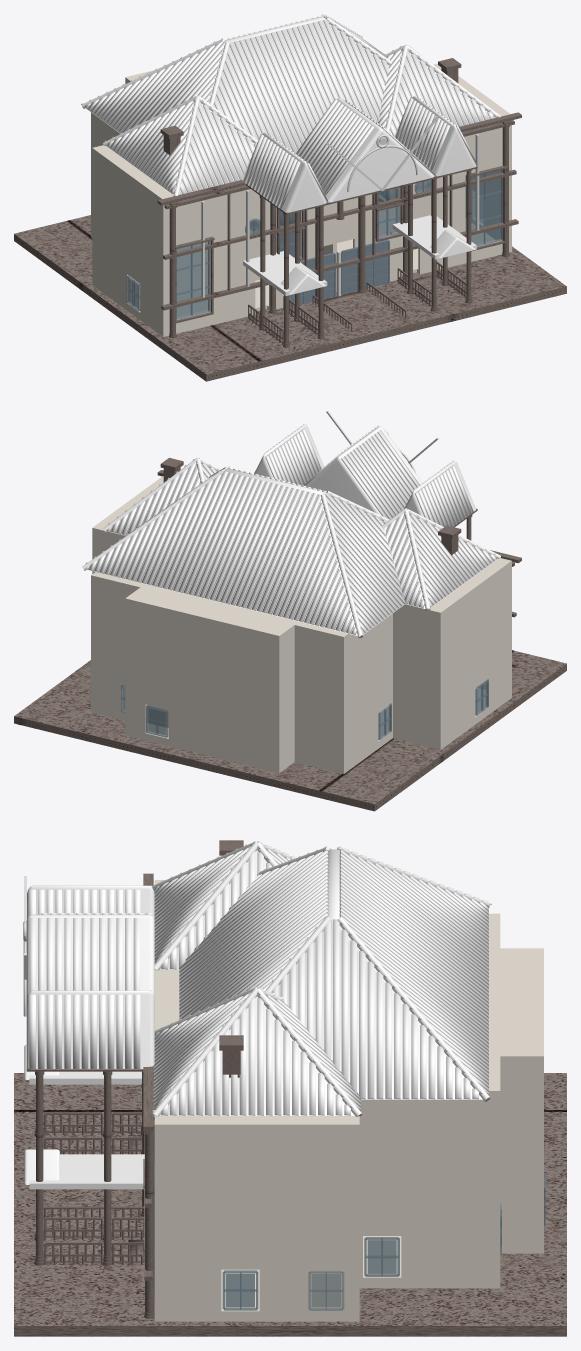
Rendered from architecture_opt-DSaLFvu9.glb.
The picture shows the model from 3 angles, top to bottom: view 1: azimuth 30°, elevation 25°; view 2: azimuth 150°, elevation 25°; view 3: azimuth 270°, elevation 25°; orthographic projection. The views are drawn at different scales.
Parts seen in each view (by area): view 1: L_门廊披檐, L_中央台阶扶手_0_底轨, H3_中央核心, L_门廊顶板, L_拱下窗_上框, L_车库门_上边框, 山墙徽章心; view 2: H3_中央核心, L_门廊披檐, L_中央台阶扶手_0_底轨, L_门廊顶板, L_拱下窗_上框; view 3: L_门廊披檐, H3_中央核心, L_中央台阶扶手_0_底轨, L_门廊顶板, L_拱下窗_上框.
Boxes of the visible parts, box(x1,y1,x2,y2) form: L_门廊披檐: box(81, 14, 500, 294); L_中央台阶扶手_0_底轨: box(14, 58, 566, 381); H3_中央核心: box(91, 63, 511, 336); L_门廊顶板: box(81, 14, 500, 295); L_拱下窗_上框: box(126, 169, 502, 319); L_车库门_上边框: box(289, 239, 389, 307); 山墙徽章心: box(201, 116, 479, 297); H3_中央核心: box(91, 476, 511, 773); L_门廊披檐: box(85, 424, 497, 637); L_中央台阶扶手_0_底轨: box(14, 457, 566, 811); L_门廊顶板: box(82, 457, 500, 638); L_拱下窗_上框: box(121, 680, 488, 739); L_门廊披檐: box(24, 841, 491, 1184); H3_中央核心: box(154, 880, 543, 1321); L_中央台阶扶手_0_底轨: box(14, 840, 566, 1336); L_门廊顶板: box(29, 841, 490, 1189); L_拱下窗_上框: box(153, 1117, 545, 1310).
Bounding box in the file's own units: 23.4 × 14.13 × 21.6.
5 materials, 1 textured.
